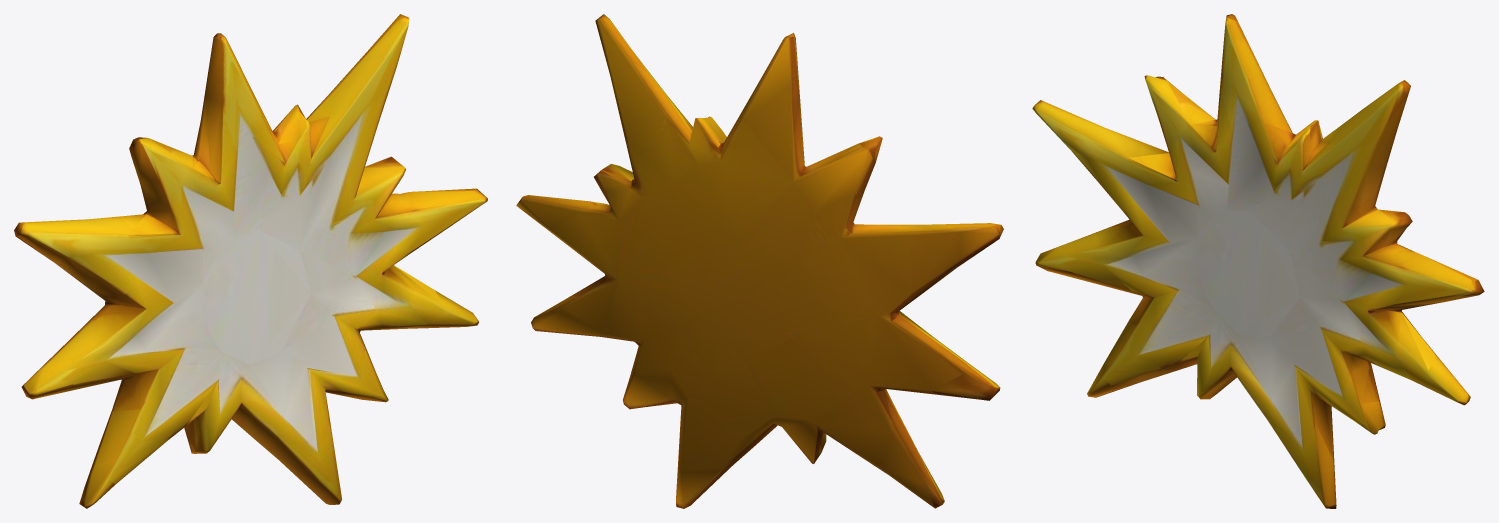
Rendered from burst.glb.
The picture shows the model from 3 angles, left to right: view 1: azimuth 30°, elevation 25°; view 2: azimuth 150°, elevation 25°; view 3: azimuth 330°, elevation 25°; orthographic projection. The views are drawn at different scales.
Visible parts, largest first — view 1: KickBurstMesh; view 2: KickBurstMesh; view 3: KickBurstMesh.
Part boxes in pixels (x1,y1,x2,y2): KickBurstMesh: (14, 14, 487, 508); KickBurstMesh: (516, 14, 1003, 508); KickBurstMesh: (1032, 14, 1484, 508).
Bounding box in the file's own units: 0.8 × 0.8 × 0.072.
Materials: 1 (1 with a texture image).
